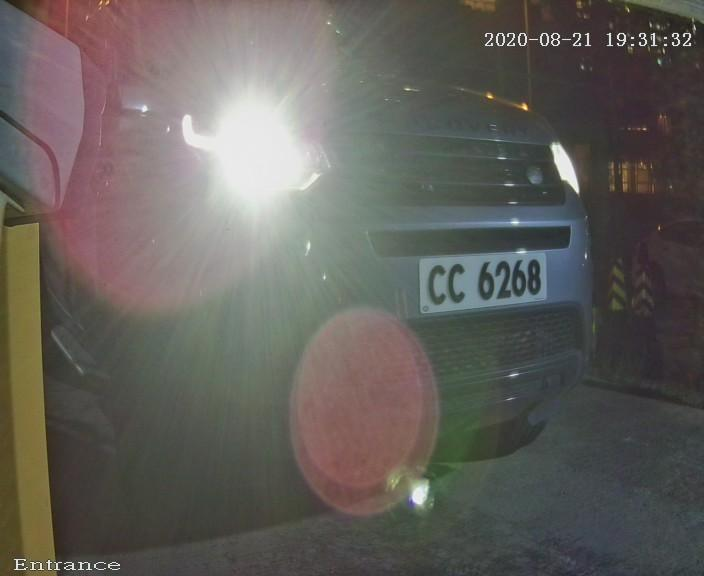Car: (19, 3, 661, 479)
License Plate: (406, 237, 563, 325)
